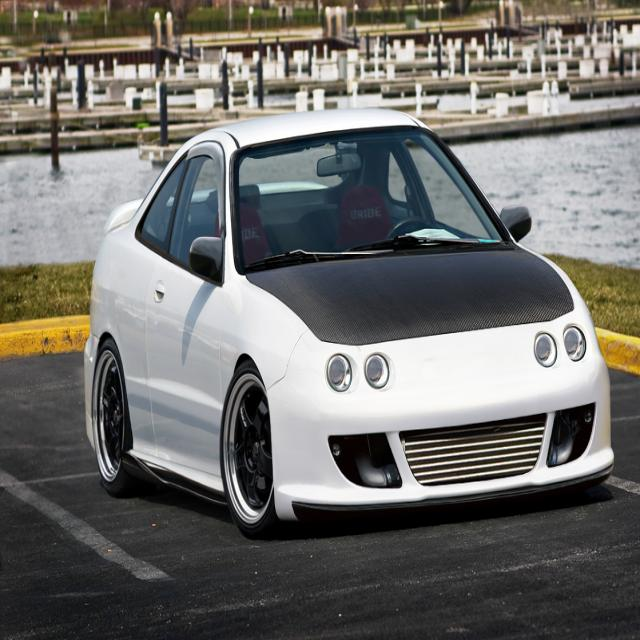car: (79, 85, 622, 575)
